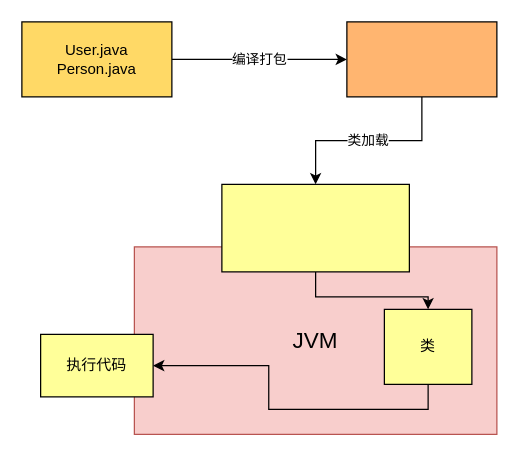
Image size: 519x456. Some labels were removed from this diagram. The centre of each missing label's shape, as x and y in pixels:
jar包 war包 User.class Person.class: pixel 421 59
类加载器: pixel 315 227
